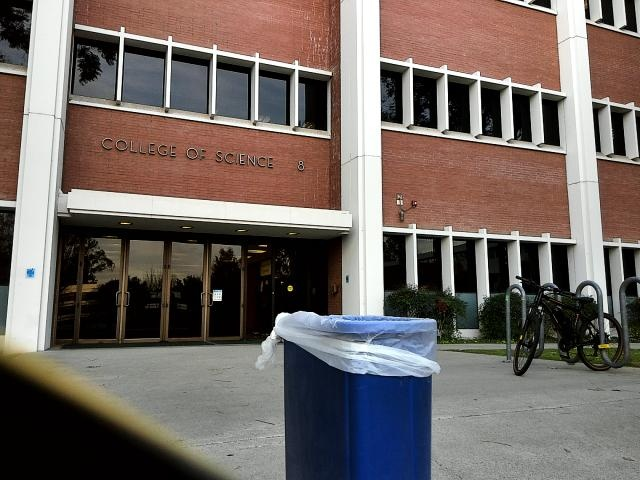trashcan_open: (261, 308, 443, 480)
